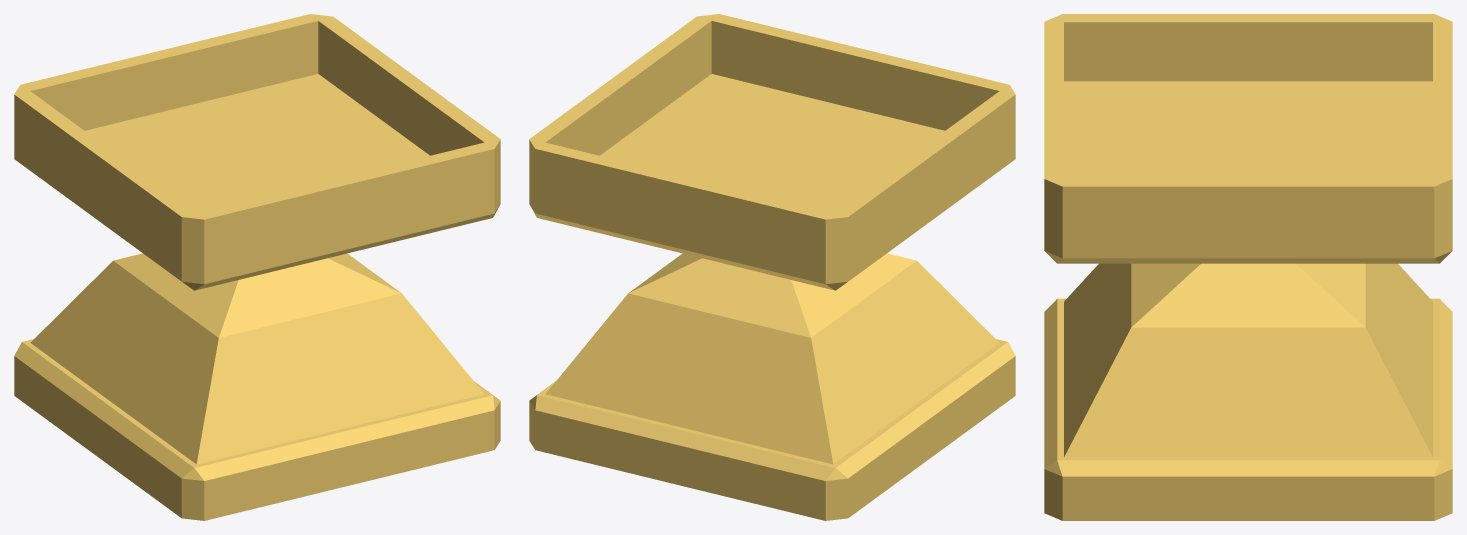
Rendered from Stèle_Labyrinthe.fbx.
3 renders of one model, left to right at view 1: azimuth 30°, elevation 25°; view 2: azimuth 150°, elevation 25°; view 3: azimuth 270°, elevation 25°, orthographic. The views are drawn at different scales.
Parts seen in each view (by area): view 1: Labyrinthe; view 2: Labyrinthe; view 3: Labyrinthe.
Boxes of the visible parts, box(x1,y1,x2,y2) form: Labyrinthe: box(14, 14, 500, 520); Labyrinthe: box(529, 14, 1015, 520); Labyrinthe: box(1044, 14, 1452, 520).
Size of the model in its own units: 111 by 100 by 111.
